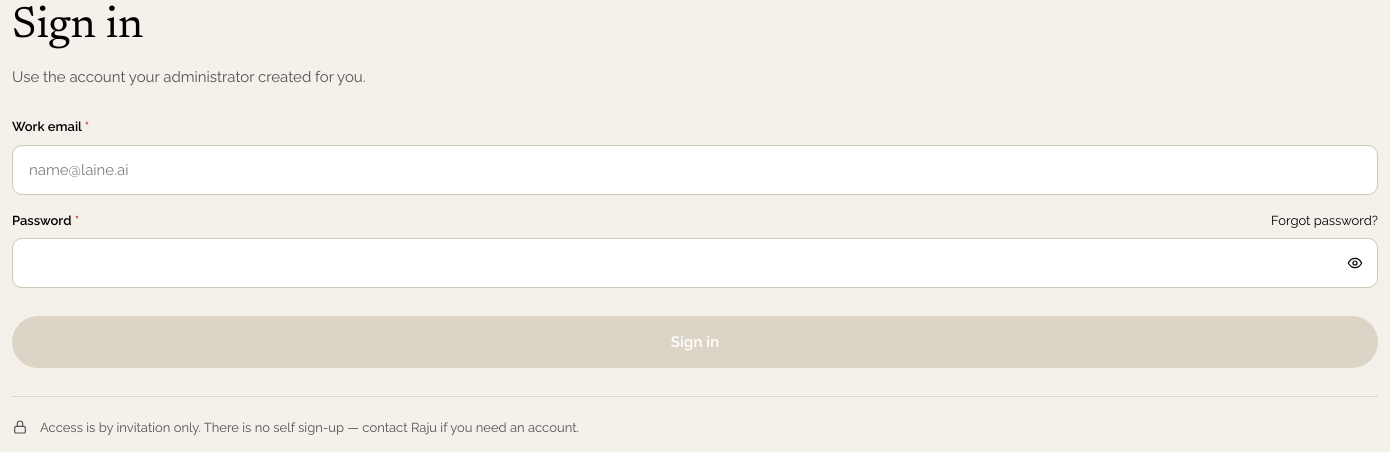
Test: SignInForm › sends an email code on a new device
Type "raju@laine.ai" into the field labelled "Work email *" at (695, 170), box x1=13 y1=146 x2=1377 y2=194
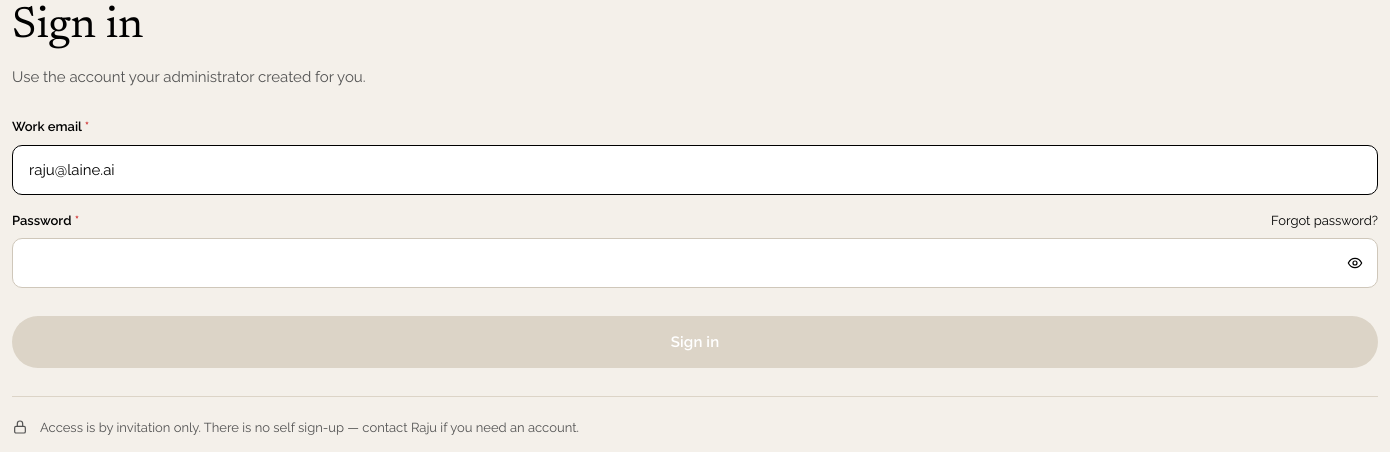
Type "correct horse" into the password field labelled "Password *" at (676, 263), box x1=13 y1=239 x2=1339 y2=287
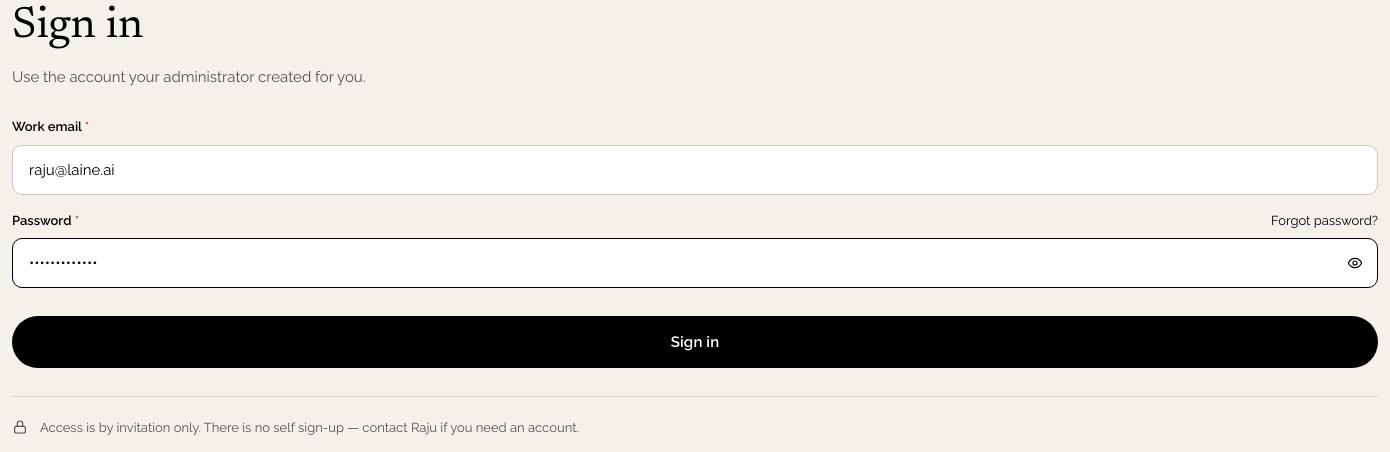
Click the button "Sign in" at (695, 342), box x1=12 y1=316 x2=1378 y2=368
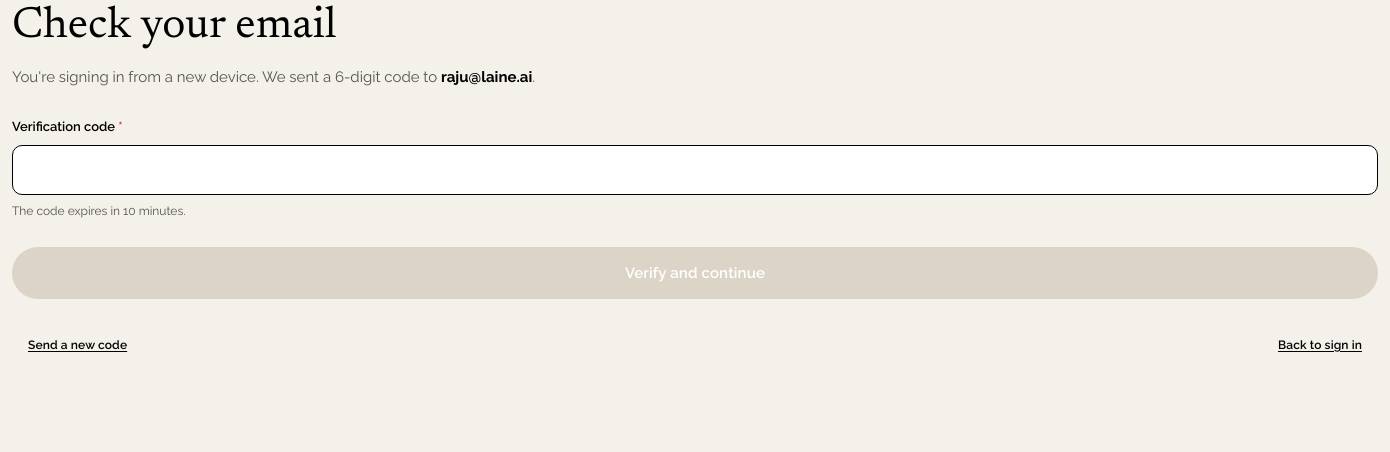
Expected: the heading "Check your email" is shown, x1=12 y1=5 x2=337 y2=49
Expected: the text "raju@laine.ai" is shown, x1=441 y1=68 x2=532 y2=86
